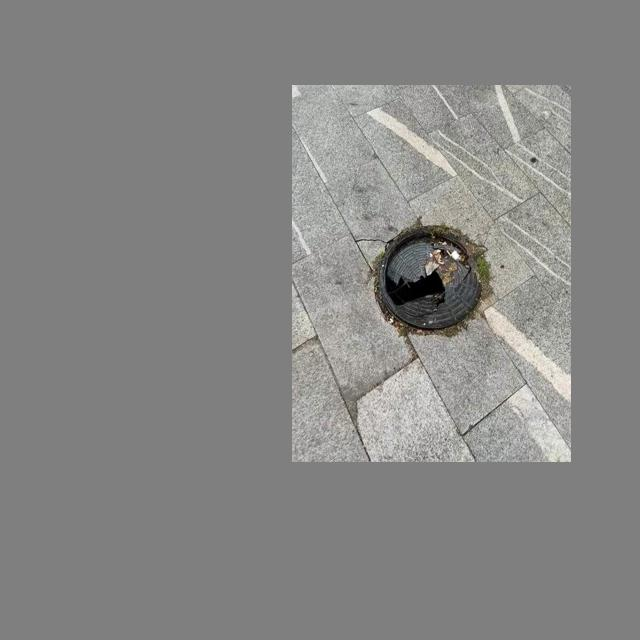broke: (357, 216, 499, 345)
